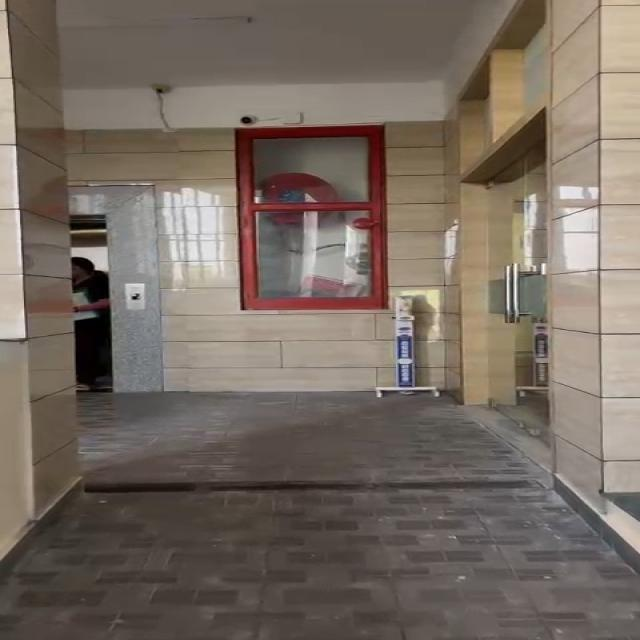door: (227, 114, 396, 318)
floor: (100, 403, 562, 640)
wall: (414, 11, 640, 406), (0, 0, 91, 565)
